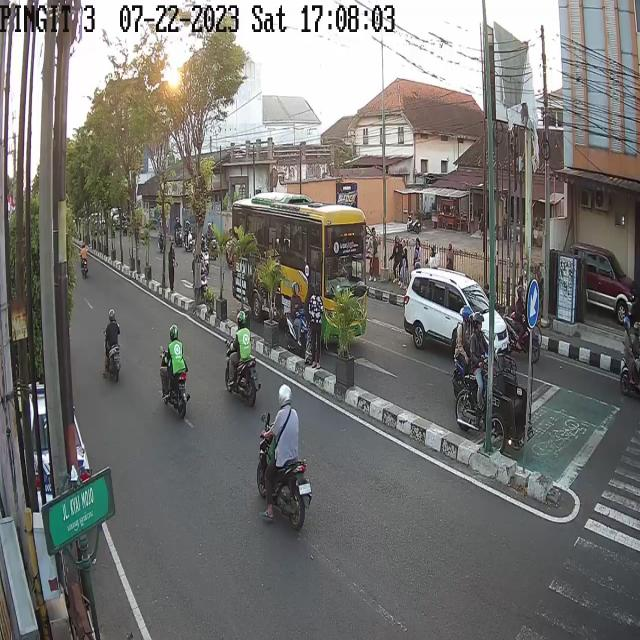bus: (231, 191, 368, 346)
car: (402, 268, 508, 352), (575, 244, 636, 326)
motorcycle: (256, 382, 313, 531), (224, 310, 261, 408), (502, 284, 541, 362), (160, 324, 190, 420), (284, 284, 311, 352), (102, 310, 122, 385), (195, 234, 209, 274), (205, 217, 218, 259), (78, 239, 88, 277), (183, 214, 193, 248), (174, 216, 183, 246)
